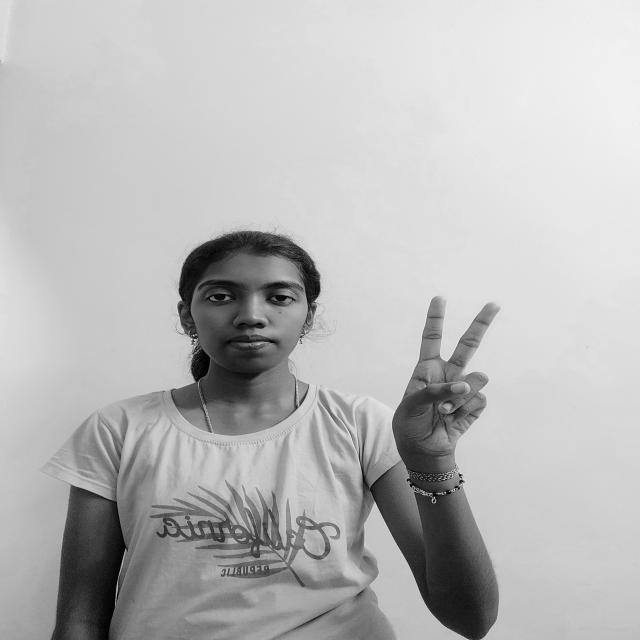Victory: (386, 294, 510, 469)
